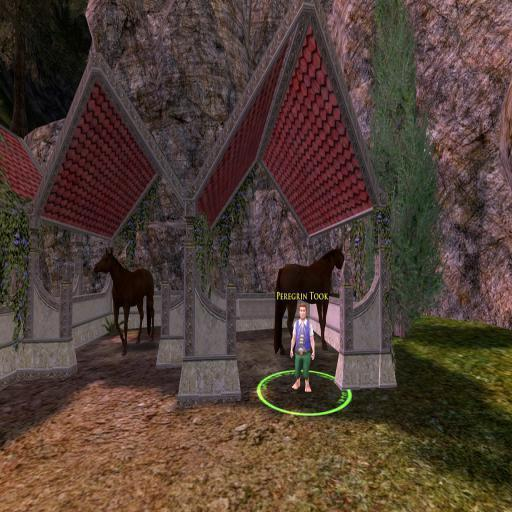horse: (274, 245, 346, 354), (90, 242, 154, 352)
